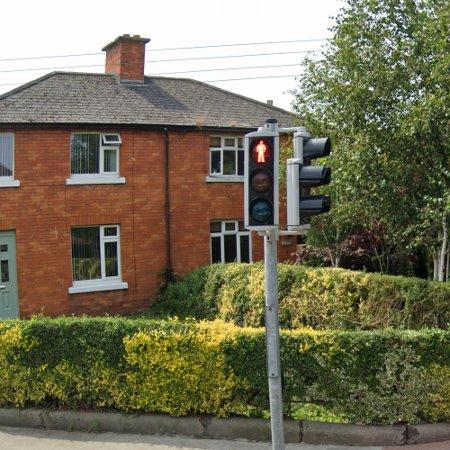chimneys: (102, 34, 150, 83)
